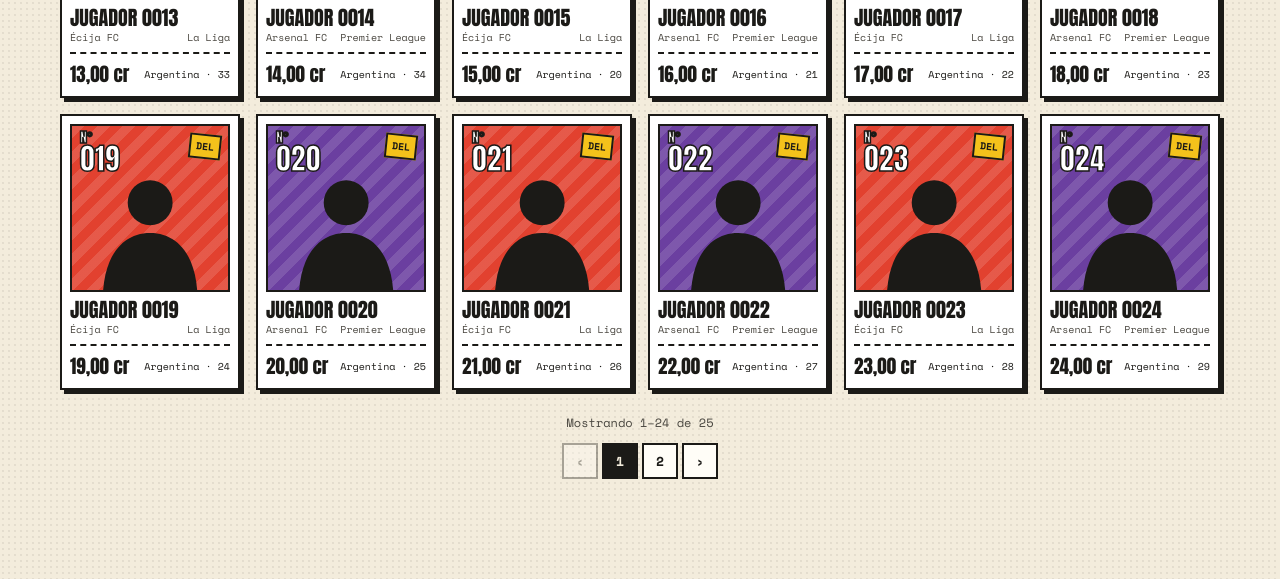
Scenario: AlbumPage › loads, sorts and paginates the full catalog while keeping the initial total
(page scrolled)
Expected: the text "Mostrando 1–24 de 25" is shown, [566,414,714,431]
Click the button named "Página siguiente". click: x=700, y=461
box: [682,443,718,479]
(page scrolled)
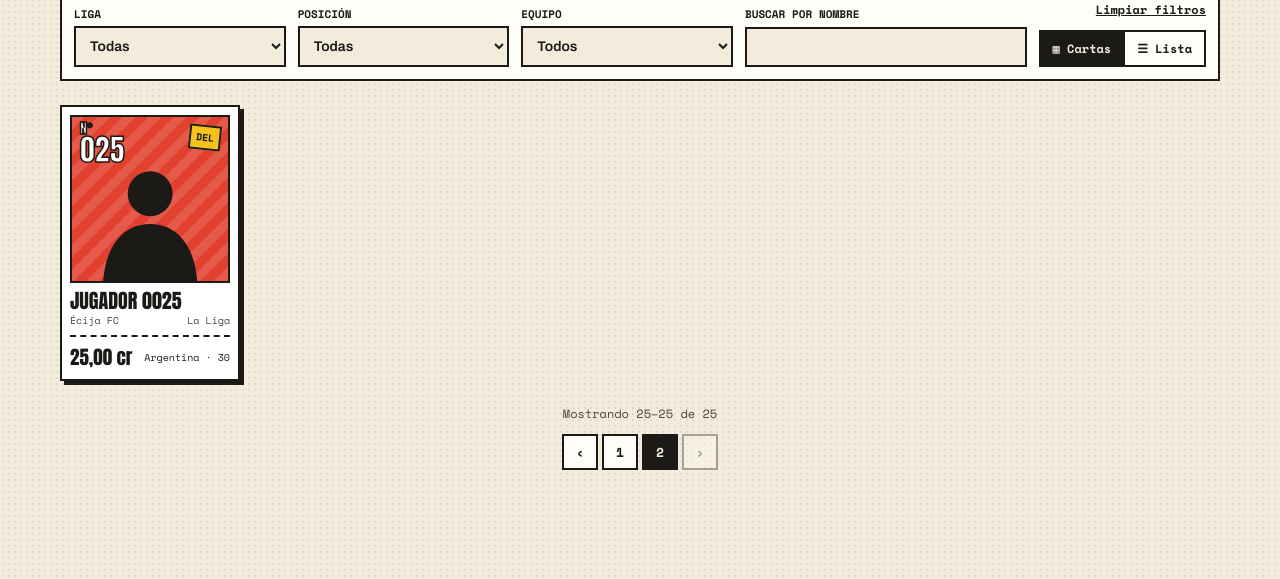
Result: the text "Mostrando 25–25 de 25" is shown at [563,405,717,422]
